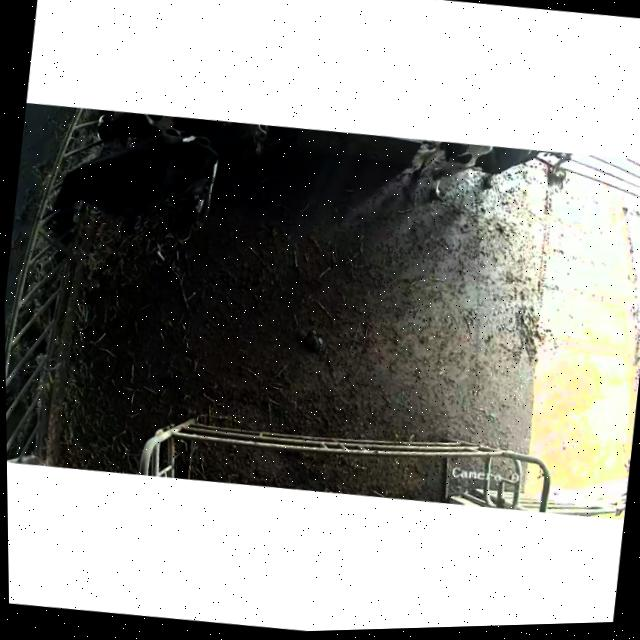stand: (419, 135, 581, 213)
